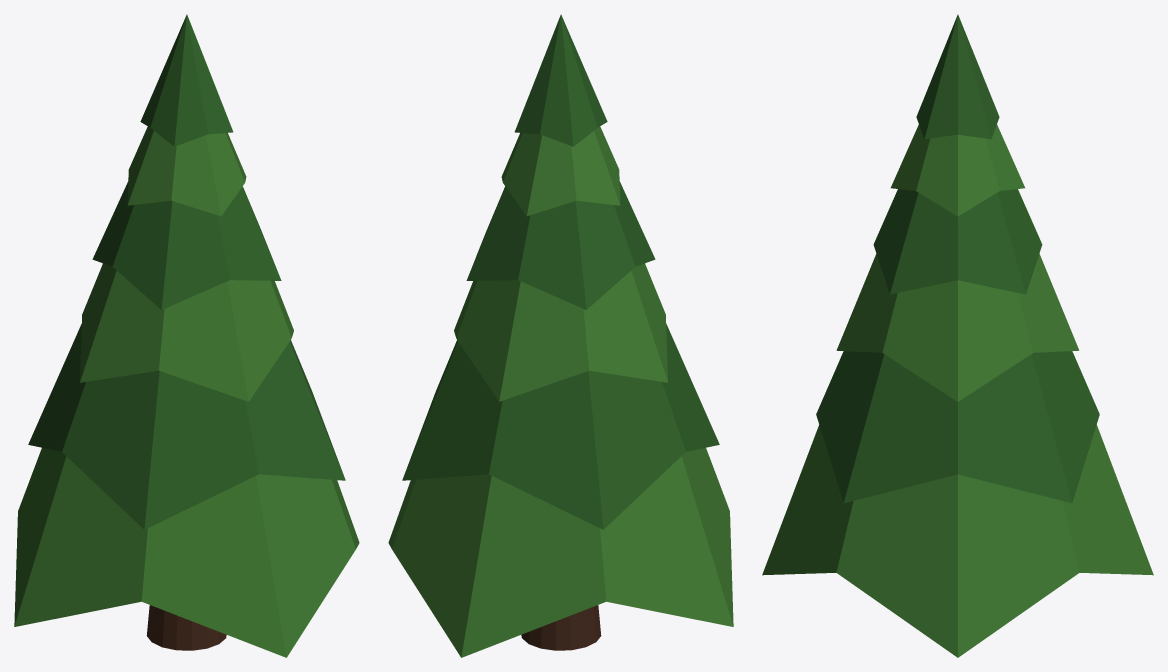
Rendered from TempTree 1.fbx.
3 renders of one model, left to right at view 1: azimuth 30°, elevation 25°; view 2: azimuth 150°, elevation 25°; view 3: azimuth 270°, elevation 25°, orthographic.
Visible parts, largest first — view 1: TempTree; view 2: TempTree; view 3: TempTree.
Boxes of the visible parts, box(x1,y1,x2,y2) form: TempTree: box(14, 14, 359, 657); TempTree: box(388, 14, 733, 657); TempTree: box(762, 14, 1153, 657).
Size of the model in its own units: 373 by 373 by 640.
